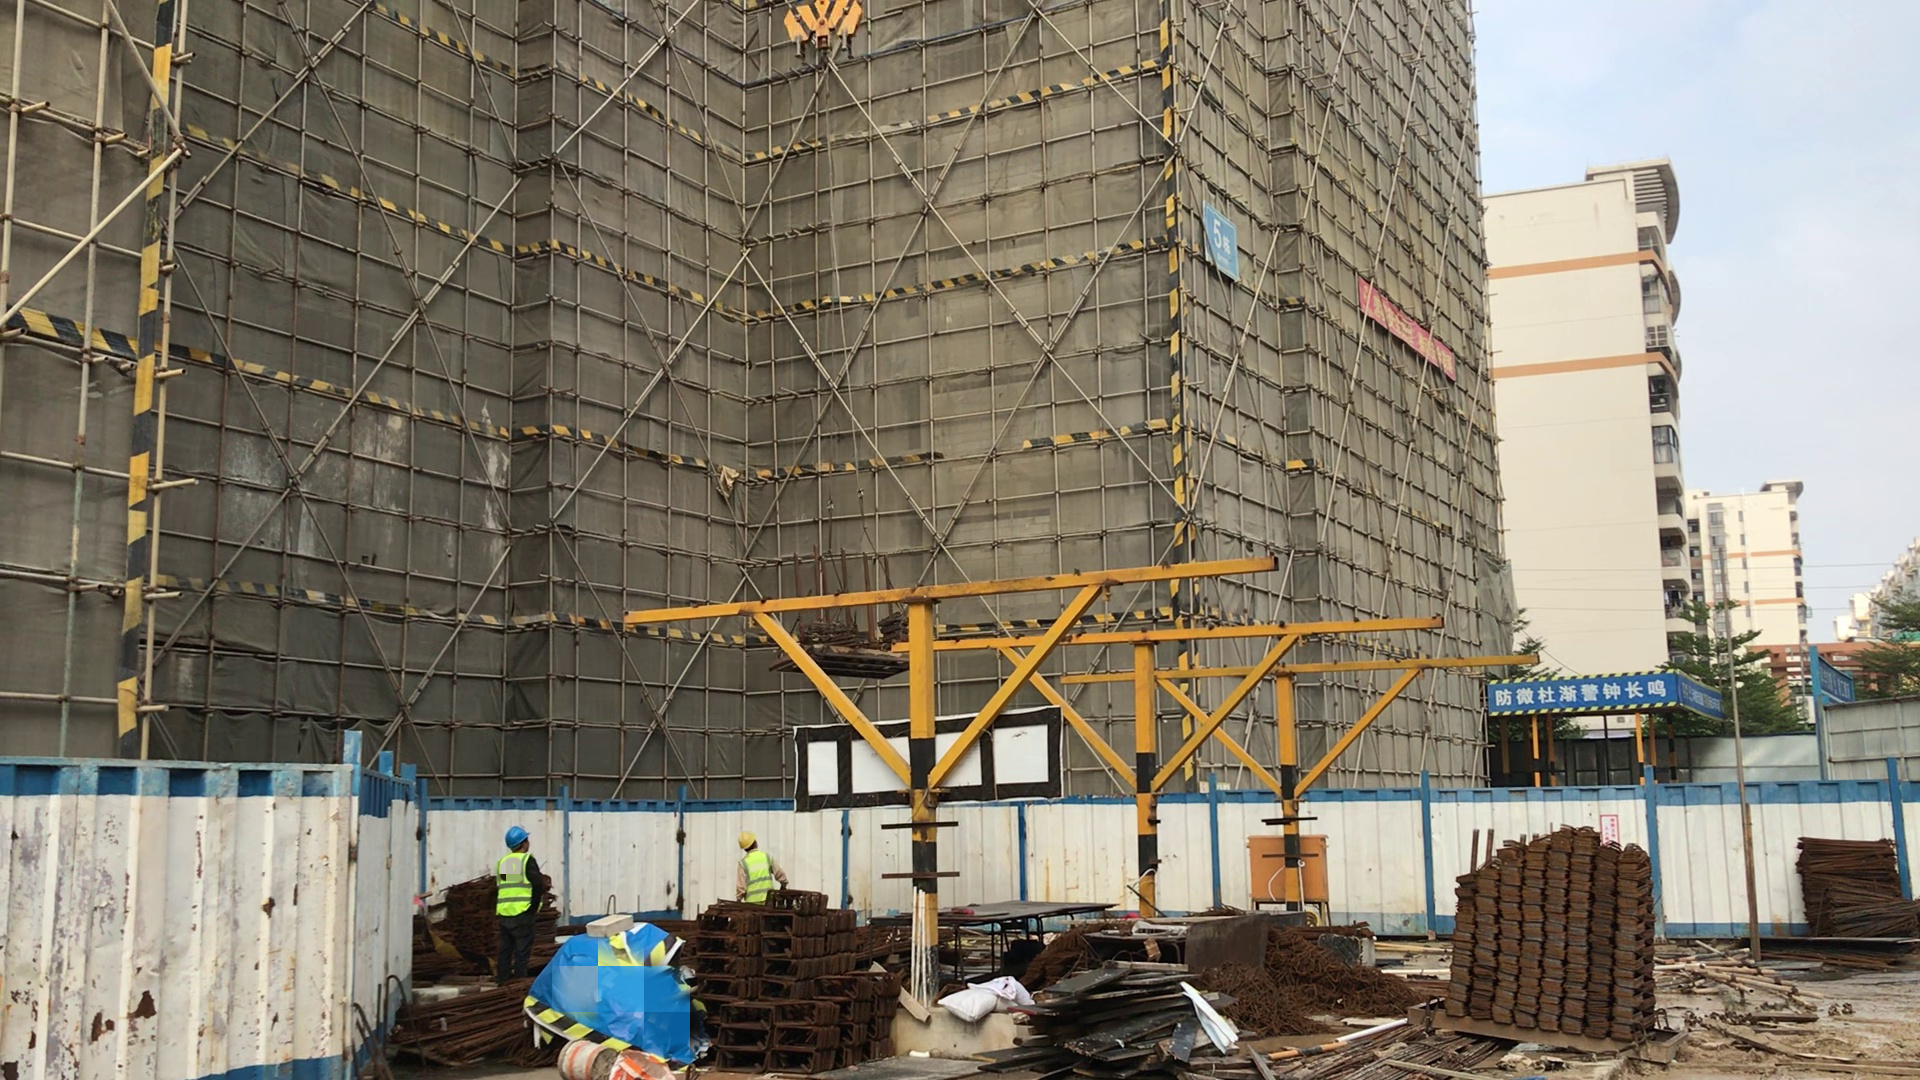ebox: (1244, 825, 1331, 905)
helmet: (497, 820, 533, 848), (737, 830, 765, 863)
hook: (776, 1, 877, 69)
person: (482, 812, 548, 989), (729, 826, 795, 934)
slogan: (1488, 670, 1652, 717)
vest: (489, 853, 548, 914), (737, 855, 783, 897)
